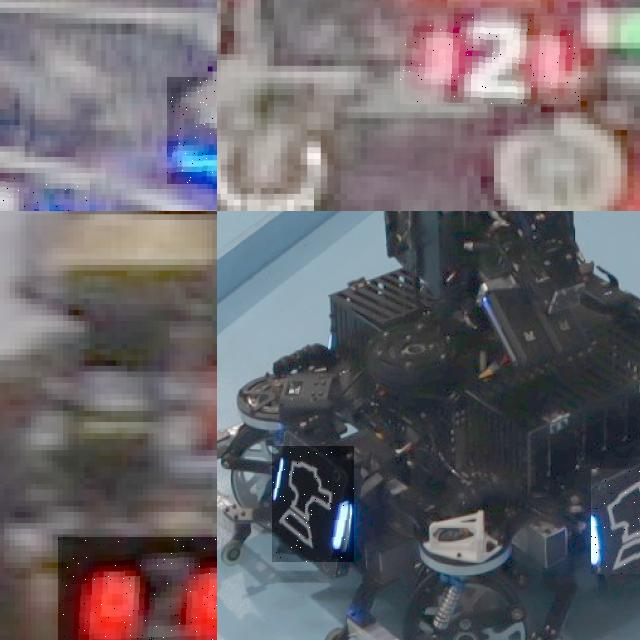B1: (167, 77, 217, 183)
Bs: (272, 446, 354, 562), (591, 469, 640, 573)
R2: (57, 537, 217, 640), (400, 16, 580, 104)
